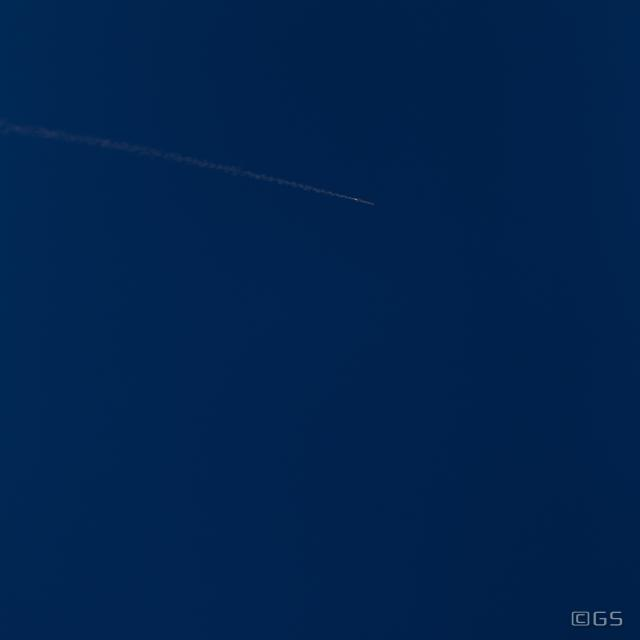Rocket: (354, 198, 374, 205)
